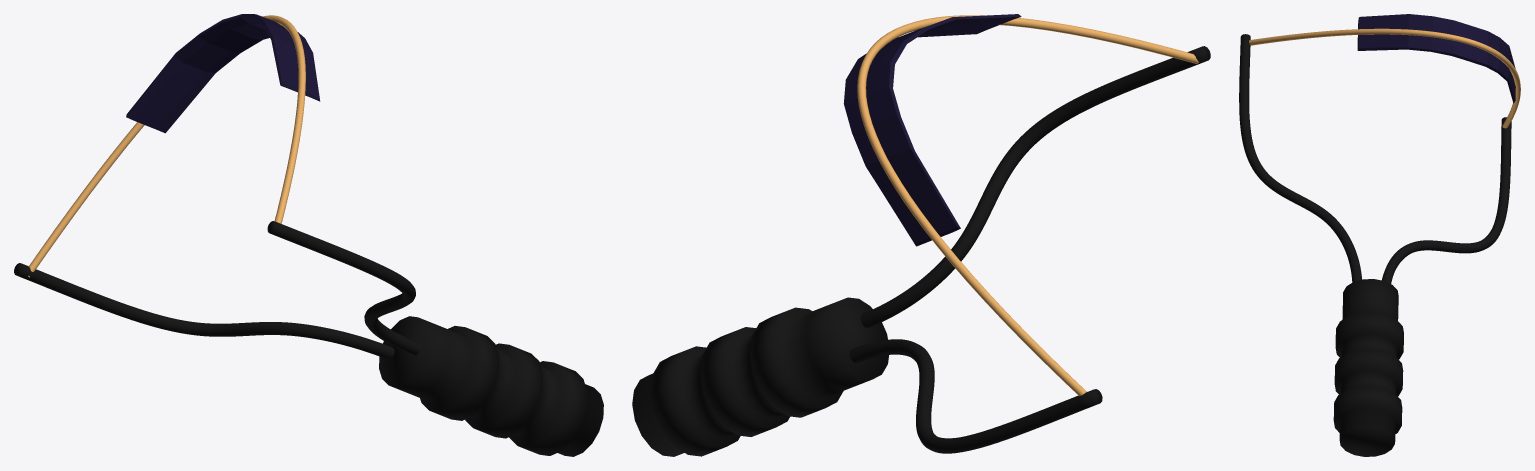
Rendered from slingshot.fbx.
3 renders of one model, left to right at view 1: azimuth 30°, elevation 25°; view 2: azimuth 150°, elevation 25°; view 3: azimuth 270°, elevation 25°, orthographic. The views are drawn at different scales.
Parts seen in each view (by area): view 1: NurbsPath.001; view 2: NurbsPath.001; view 3: NurbsPath.001.
Boxes of the visible parts, x1=… form: NurbsPath.001: x1=14, y1=14, x2=603, y2=456; NurbsPath.001: x1=632, y1=14, x2=1210, y2=456; NurbsPath.001: x1=1239, y1=14, x2=1520, y2=456.
Size of the model in its own units: 107 by 96.29 by 70.75.
